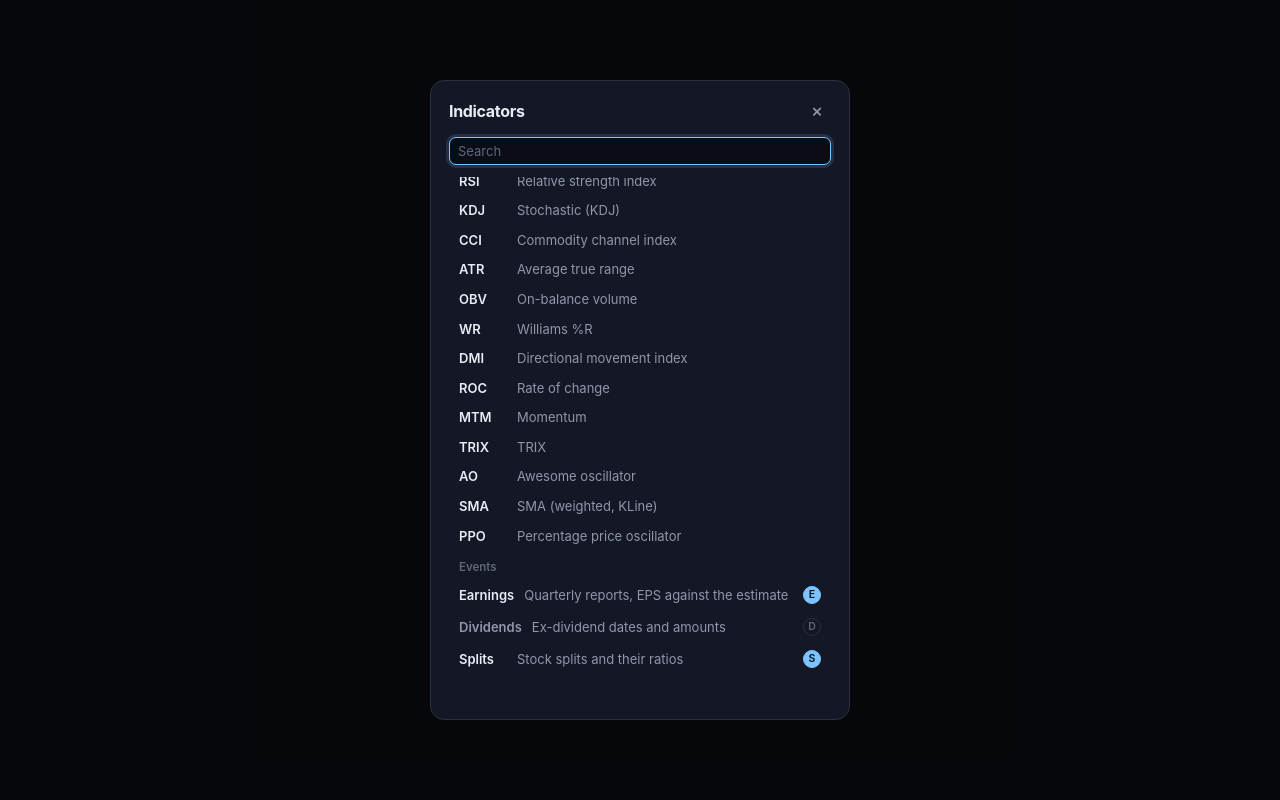
Test case: IndicatorButton › Events › lists earnings, dividends and splits as toggles (shown unless hidden), filtered by the search
The width and height of the screenshot is (1280, 800).
(page scrolled)
Expected: the heading "Events" is shown, x1=459 y1=560 x2=497 y2=574
Click the button "Earnings Quarterly reports, EPS against the estimate E".
click(640, 595)  # box x1=449 y1=579 x2=831 y2=611
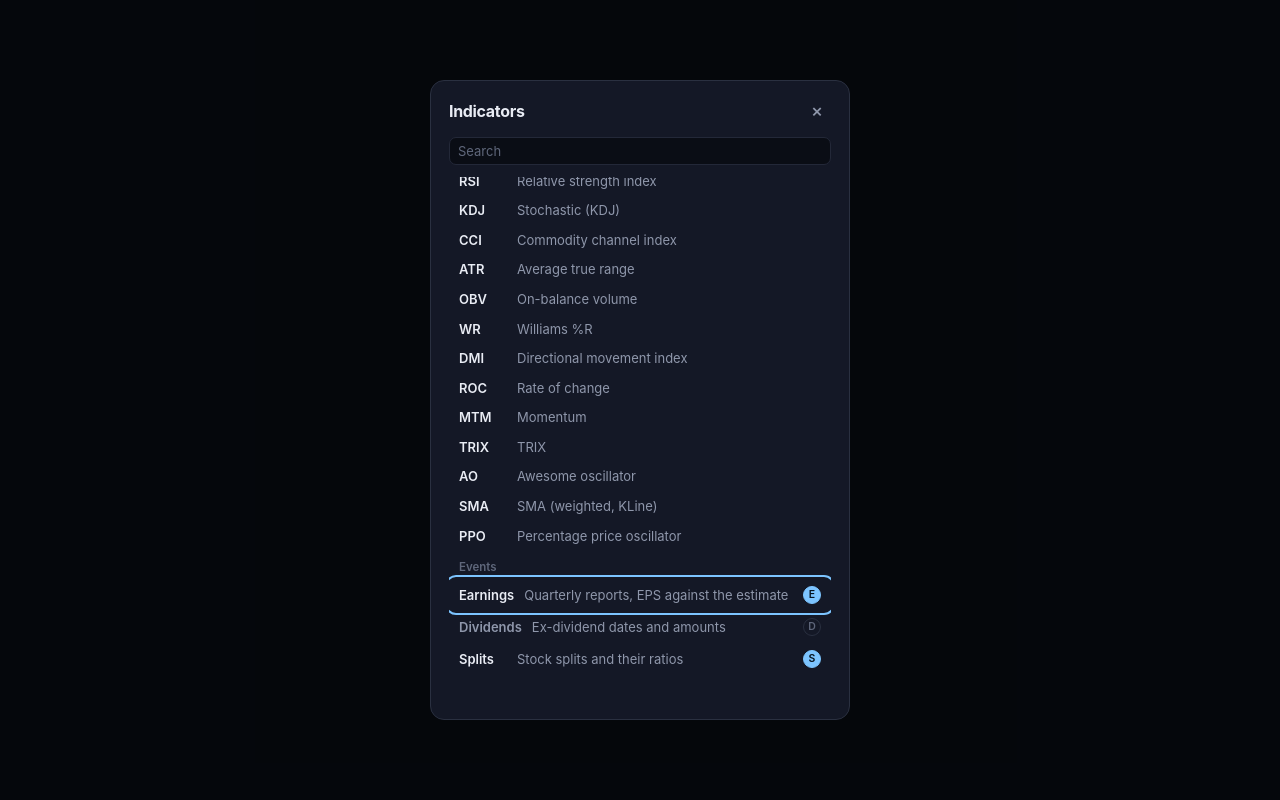
Type "divid" into the search field.
click(640, 151); type("divid")  # box x1=449 y1=137 x2=831 y2=165
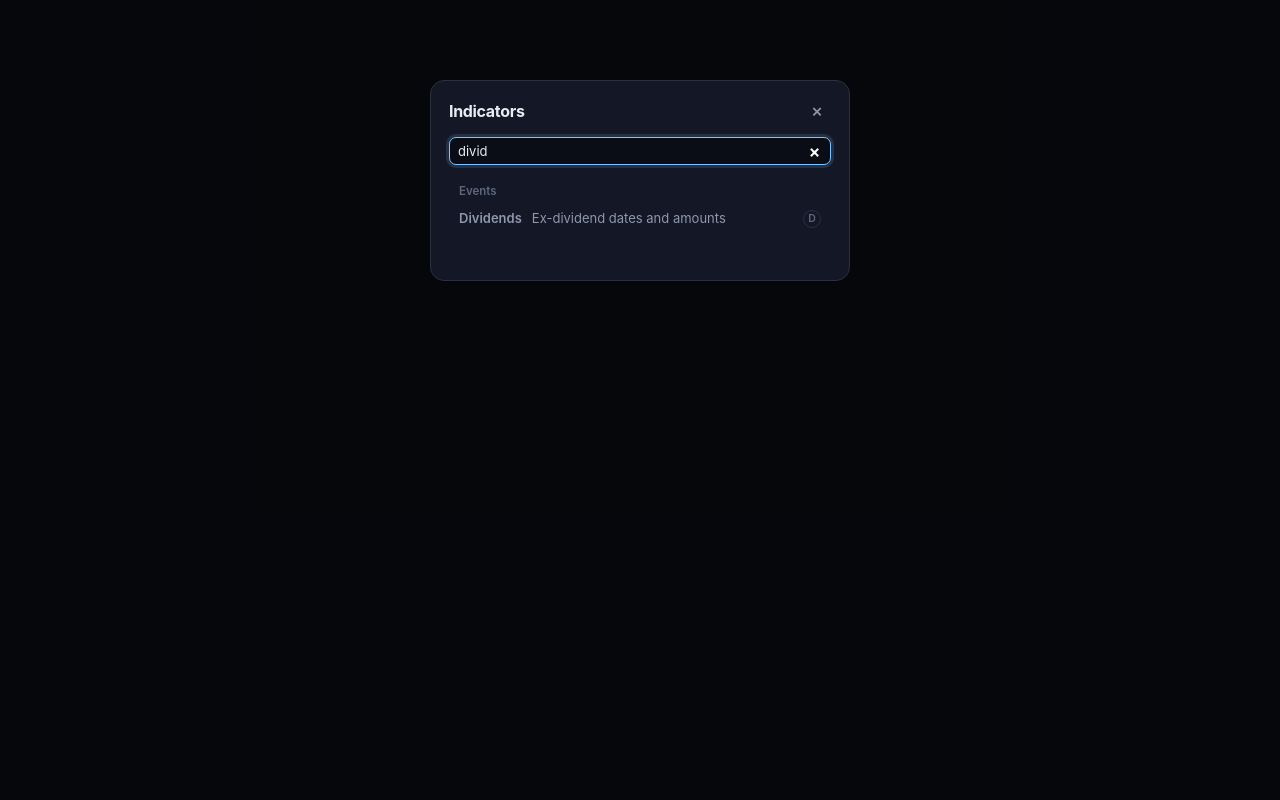
Expected: the button "Dividends Ex-dividend dates and amounts D" is shown, x1=449 y1=203 x2=831 y2=235
Now the button "Earnings" is gone
